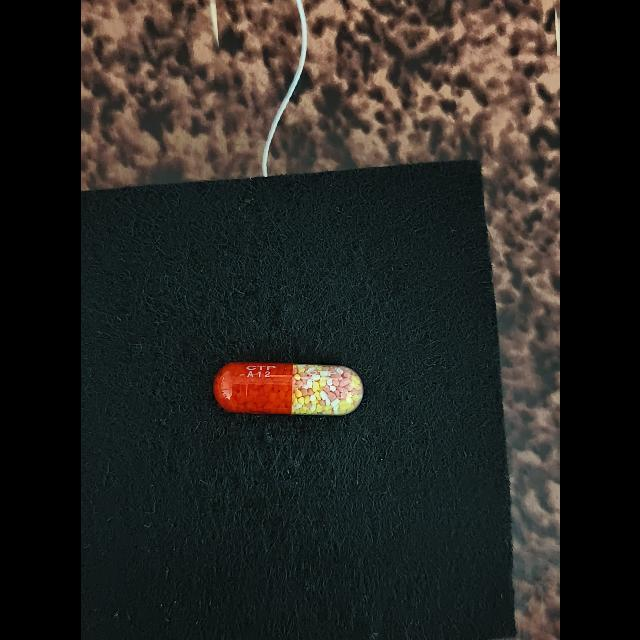Intact Capsule: (212, 362, 363, 415)
